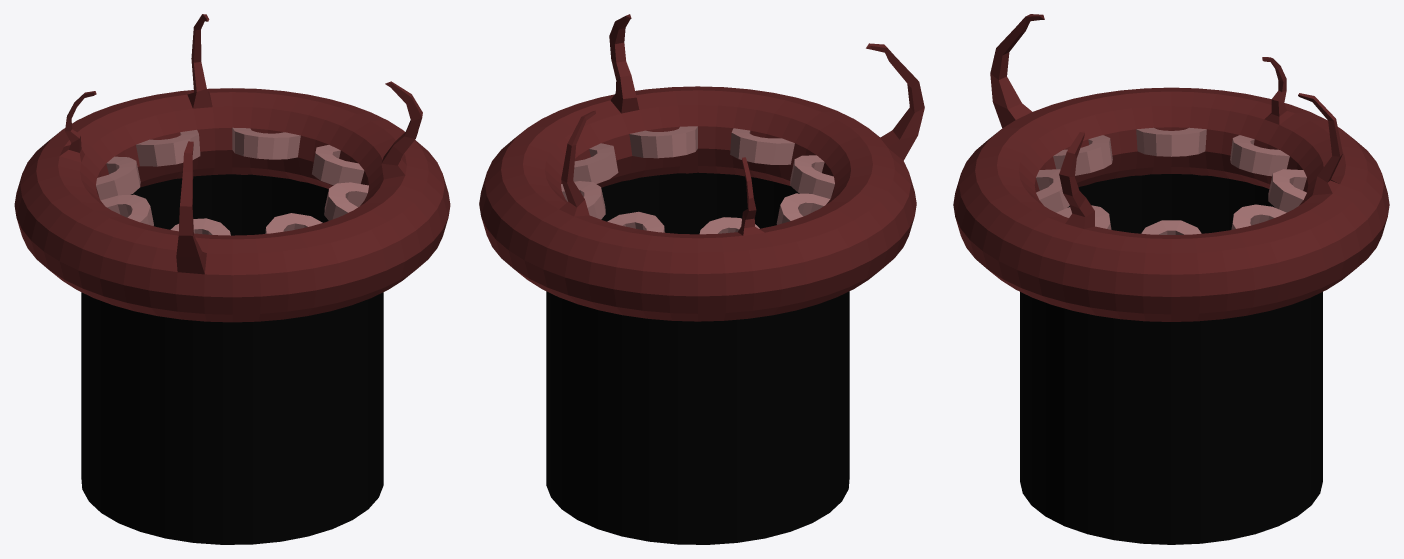
Rendered from hole.fbx.
3 views of the same model, side by side, from view 1: azimuth 30°, elevation 25°; view 2: azimuth 150°, elevation 25°; view 3: azimuth 270°, elevation 25° (orthographic).
Parts seen in each view (by area): view 1: Cylinder, Torus, Torus.001; view 2: Cylinder, Torus, Torus.001; view 3: Cylinder, Torus, Torus.001.
Boxes of the visible parts, x1,y1,x2,y2 form: Cylinder: [81, 174, 383, 544]; Torus: [14, 14, 450, 322]; Torus.001: [60, 81, 422, 274]; Cylinder: [546, 172, 849, 544]; Torus: [479, 86, 916, 321]; Torus.001: [609, 14, 924, 235]; Cylinder: [1020, 174, 1322, 544]; Torus: [953, 87, 1389, 321]; Torus.001: [990, 14, 1294, 228].
Size of the model in its own units: 250 by 261 by 250.
